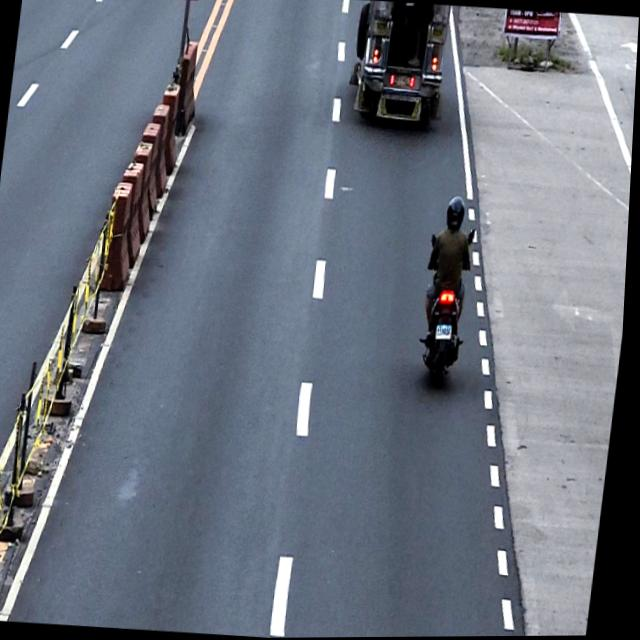Car: (346, 0, 452, 127)
License-Plate: (391, 72, 415, 89), (438, 321, 457, 342)
Motorcycle: (416, 225, 479, 387)
